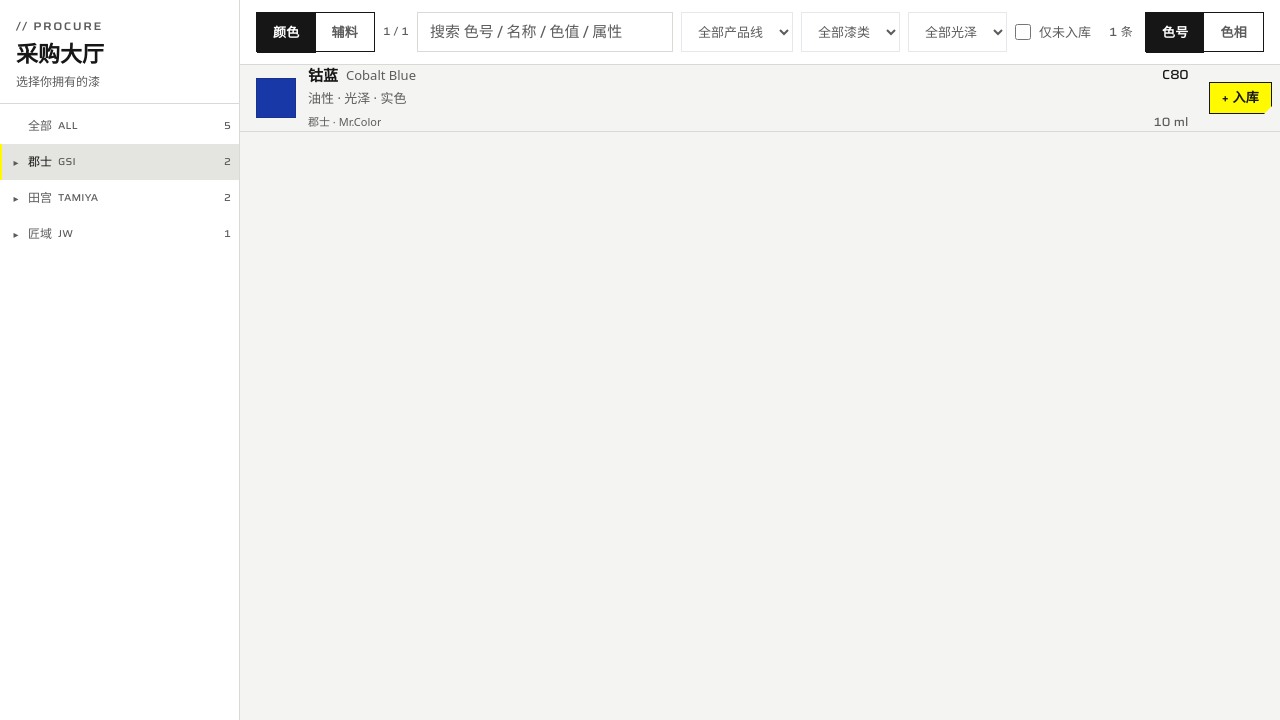
Scenario: 2.2.2 · 采购页辅料货架与摘要 › 切到没有辅料的品牌：辅料货架给专门的空状态
This screenshot has width=1280, height=720.
Click the option "▸ 匠域 JW 1". click: coordinates (40, 233)
box: x1=10 y1=225 x2=231 y2=242
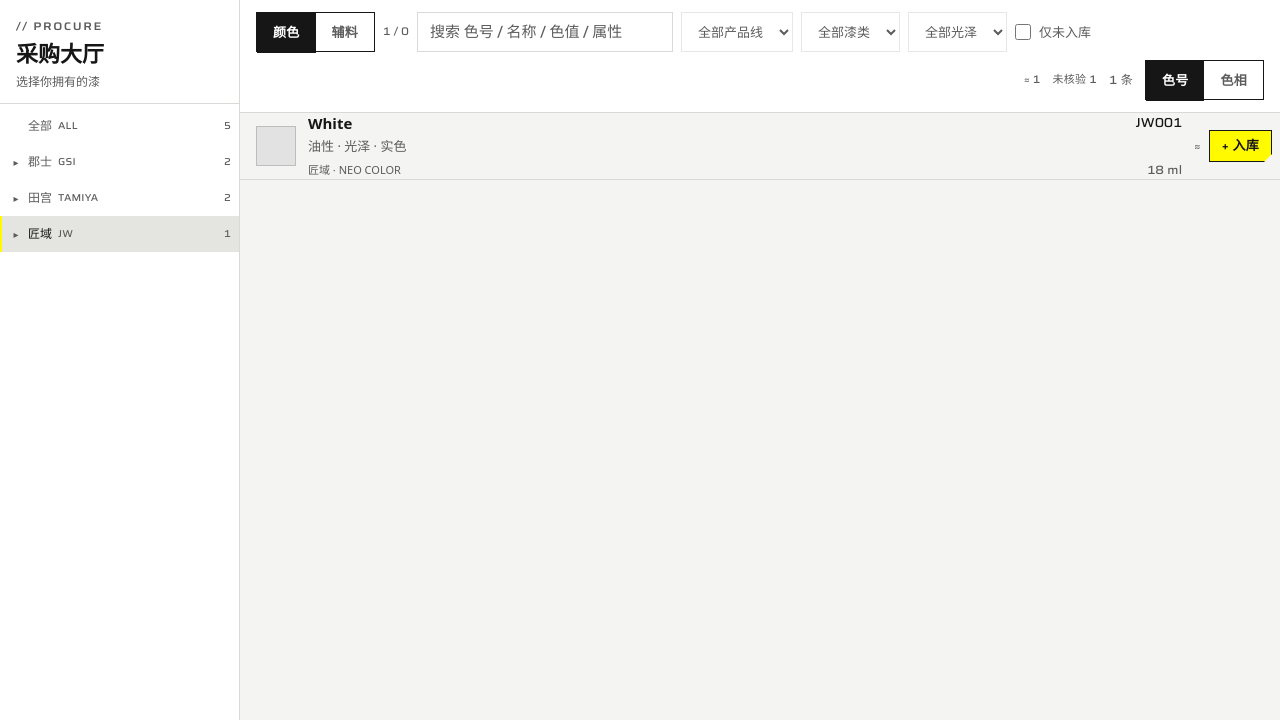
Click the tab "辅料". click: coordinates (345, 33)
box: x1=316 y1=13 x2=374 y2=53
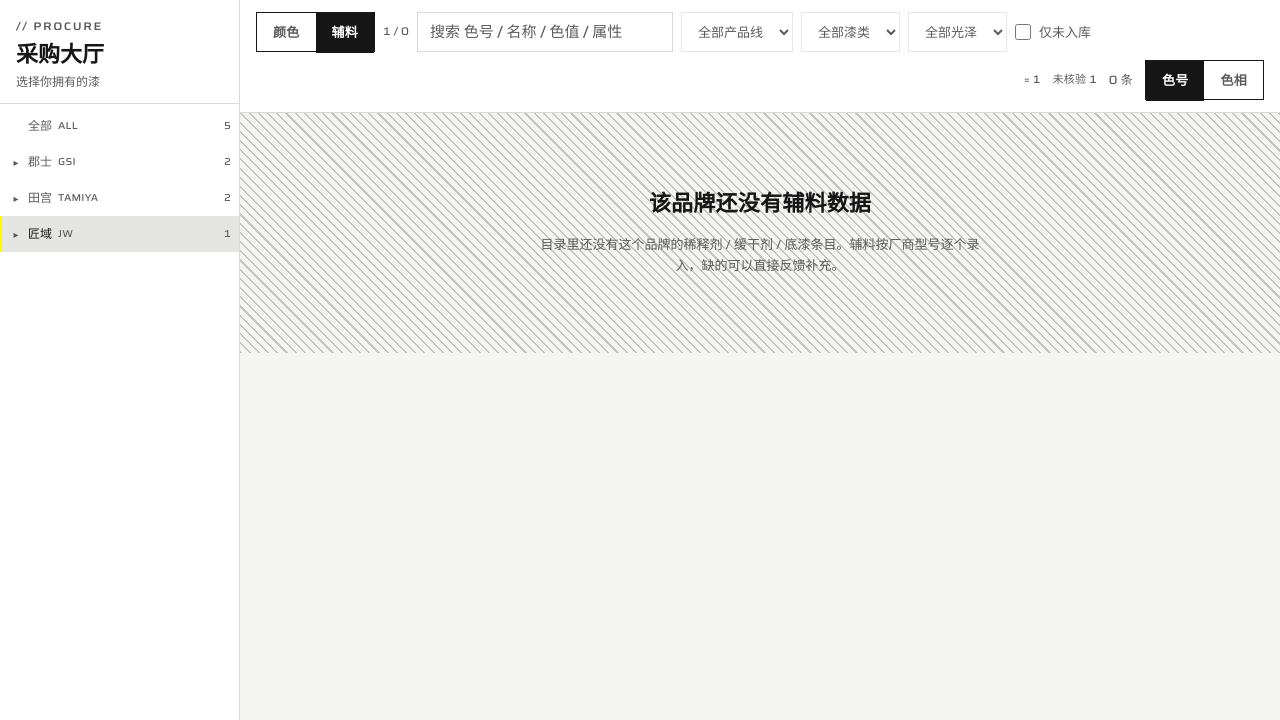
Check: the text "该品牌还没有辅料数据" is shown, box x1=649 y1=190 x2=871 y2=218
